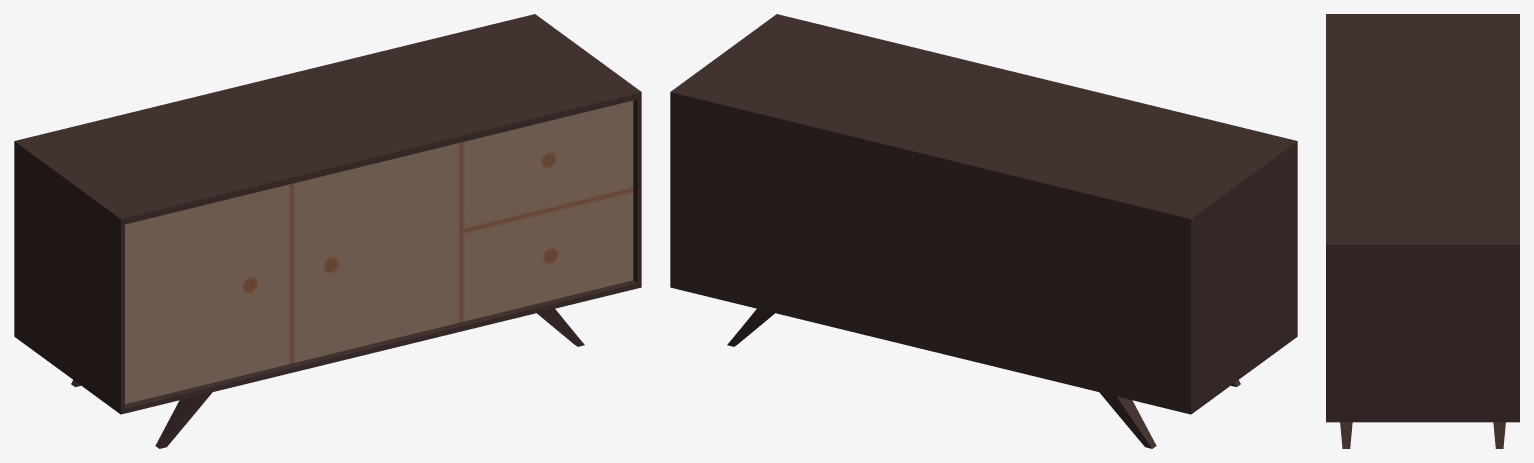
File: tvTable_geo.fbx
The picture shows the model from 3 angles, left to right: view 1: azimuth 30°, elevation 25°; view 2: azimuth 150°, elevation 25°; view 3: azimuth 270°, elevation 25°; orthographic projection. The views are drawn at different scales.
Parts seen in each view (by area): view 1: tvTable_geo; view 2: tvTable_geo; view 3: tvTable_geo.
Boxes of the visible parts, x1,y1,x2,y2 form: tvTable_geo: (14,14,641,448); tvTable_geo: (670,14,1297,448); tvTable_geo: (1326,14,1519,448).
Bounding box in the file's own units: 1.78 × 0.8119 × 0.6326.
1 material, 1 textured.
